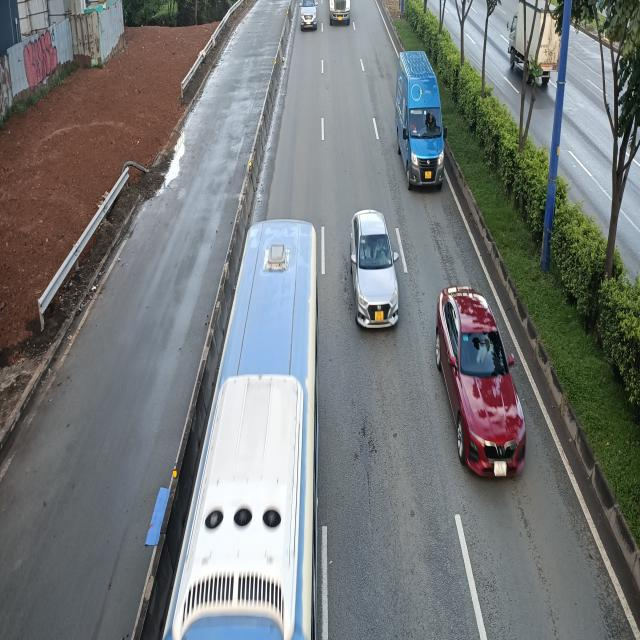car: (438, 285, 527, 476), (348, 210, 399, 332)
coach: (164, 218, 318, 640)
container: (327, 0, 353, 26)
van: (396, 48, 446, 189)
